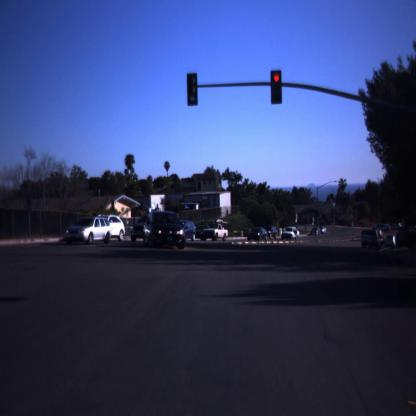trafficlight: (187, 67, 201, 111), (270, 66, 284, 109)
